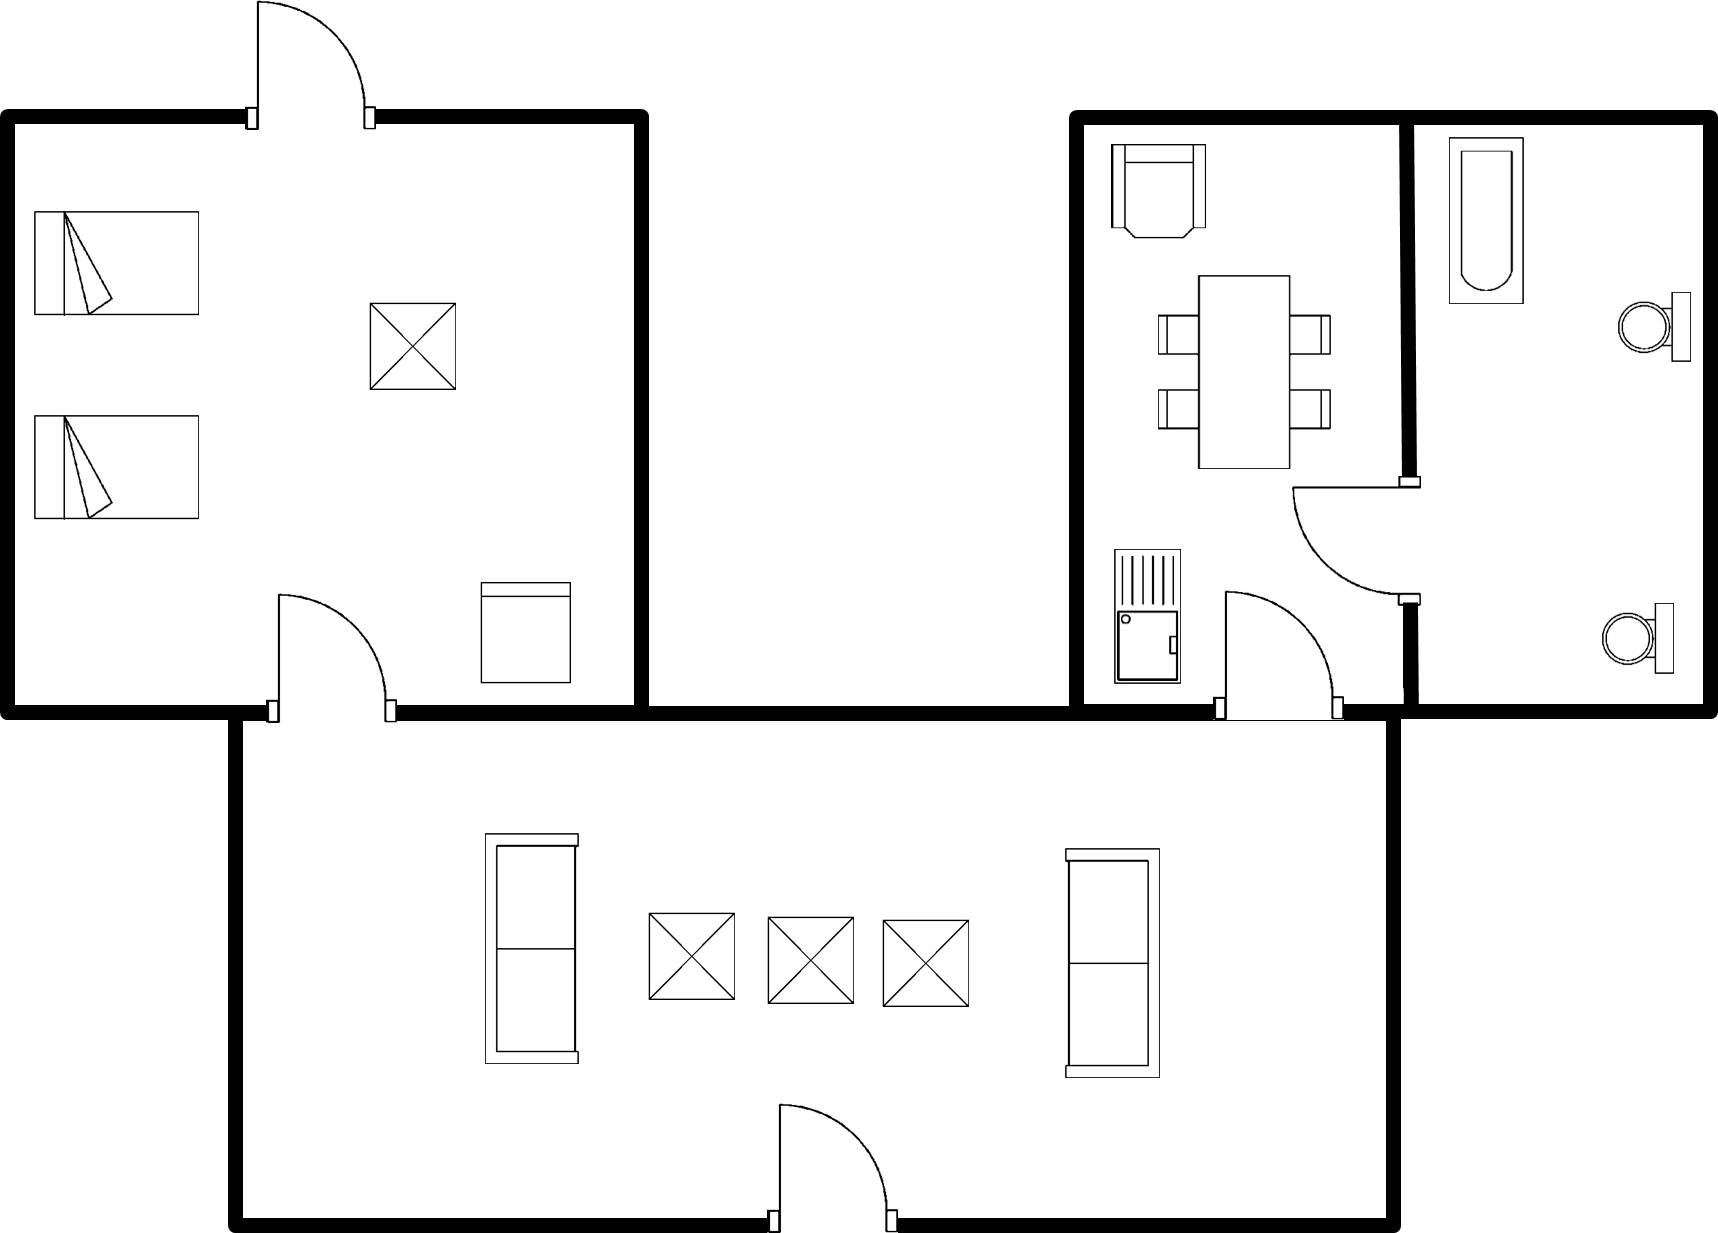armchair: (1099, 136, 1219, 252)
bed: (26, 198, 210, 330), (23, 407, 209, 531)
coffee_table: (873, 910, 981, 1020), (359, 294, 467, 399), (759, 909, 863, 1015), (638, 905, 743, 1009)
dining_table: (1149, 265, 1337, 478)
large_sink: (1595, 596, 1682, 682), (1612, 285, 1696, 374)
large_sofa: (1056, 838, 1173, 1091)
sink: (1102, 539, 1191, 694)
small_sofa: (469, 572, 582, 692)
tub: (1442, 128, 1536, 321)
